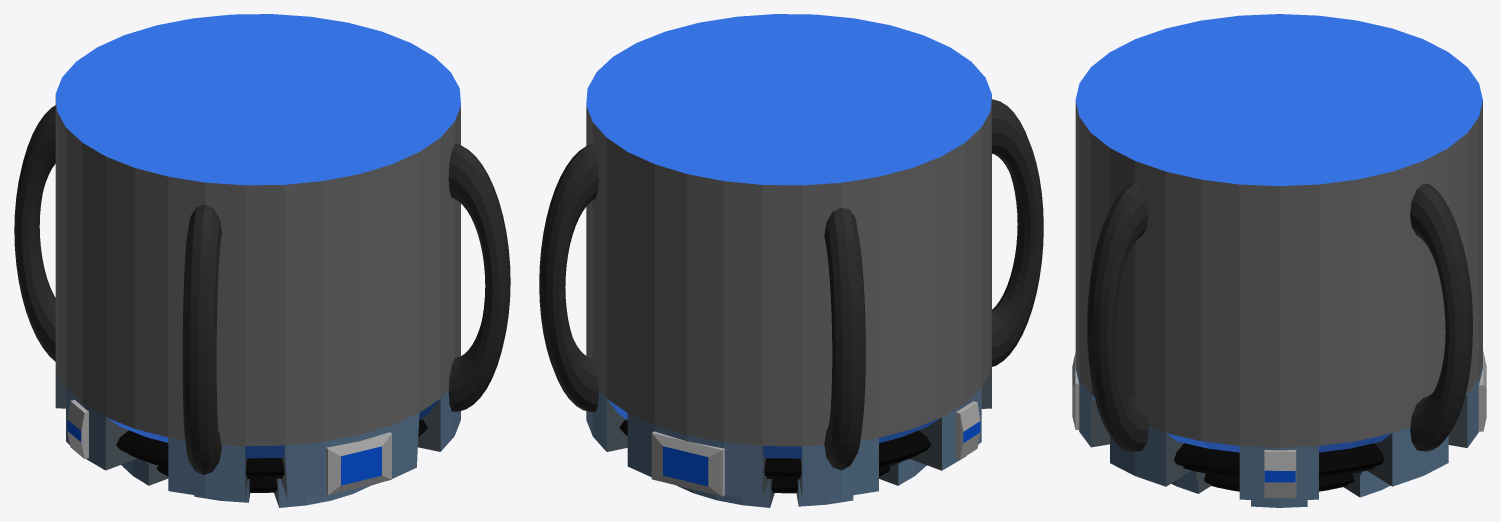
Rendered from Motor.fbx.
3 renders of one model, left to right at view 1: azimuth 30°, elevation 25°; view 2: azimuth 150°, elevation 25°; view 3: azimuth 270°, elevation 25°, orthographic.
Parts seen in each view (by area): view 1: Cilindro, Torus.005, Torus.003, Torus.002, Cubo, Torus, Cubo.002; view 2: Cilindro, Torus.002, Torus.004, Torus.005, Cubo.003, Torus, Cubo.002; view 3: Cilindro, Torus.003, Torus.004, Torus, Cubo.001, Torus.001, Cubo.003, Cubo.
Part boxes in pixels (box(x1,y1,x2,y2)): Cilindro: box(55, 14, 460, 507); Torus.005: box(182, 204, 221, 474); Torus.003: box(448, 144, 510, 411); Torus.002: box(14, 105, 55, 361); Cubo: box(326, 432, 391, 495); Torus: box(116, 419, 427, 479); Cubo.002: box(67, 400, 88, 458); Cilindro: box(586, 14, 991, 507); Torus.002: box(824, 207, 865, 470); Torus.004: box(539, 144, 598, 411); Torus.005: box(992, 99, 1043, 366); Cubo.003: box(651, 431, 724, 496); Torus: box(619, 419, 931, 479); Cubo.002: box(956, 401, 980, 459); Cilindro: box(1075, 14, 1482, 507); Torus.003: box(1087, 183, 1148, 452); Torus.004: box(1410, 183, 1472, 451); Torus: box(1174, 443, 1384, 478); Cubo.001: box(1264, 449, 1296, 498); Torus.001: box(1204, 473, 1354, 491); Cubo.003: box(1478, 351, 1486, 431); Cubo: box(1072, 352, 1079, 429).
Size of the model in its own units: 446 by 405 by 436.
